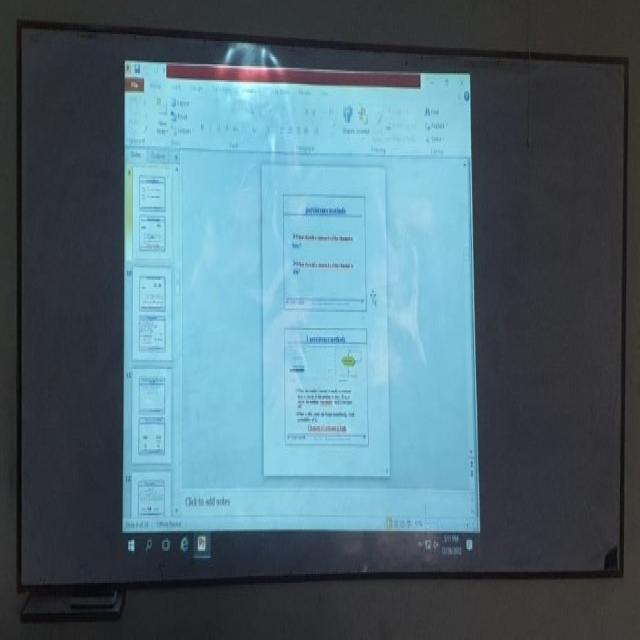Slide: (119, 53, 483, 569)
White-board: (20, 25, 628, 591)
